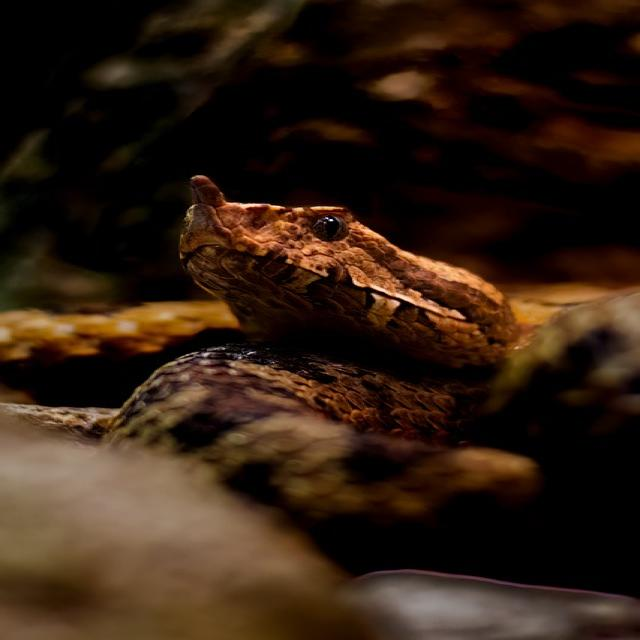Carnivorous: (103, 176, 520, 488)
